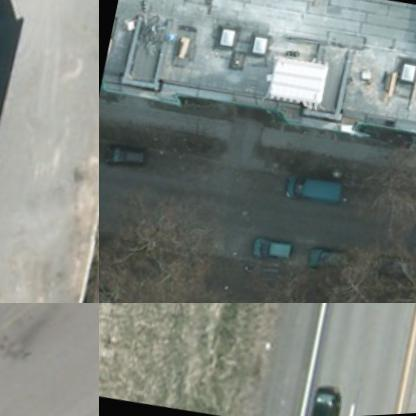car: (300, 247, 358, 282), (367, 255, 415, 295), (99, 140, 148, 178), (306, 382, 346, 415), (250, 238, 293, 268)
van: (281, 169, 340, 213)
